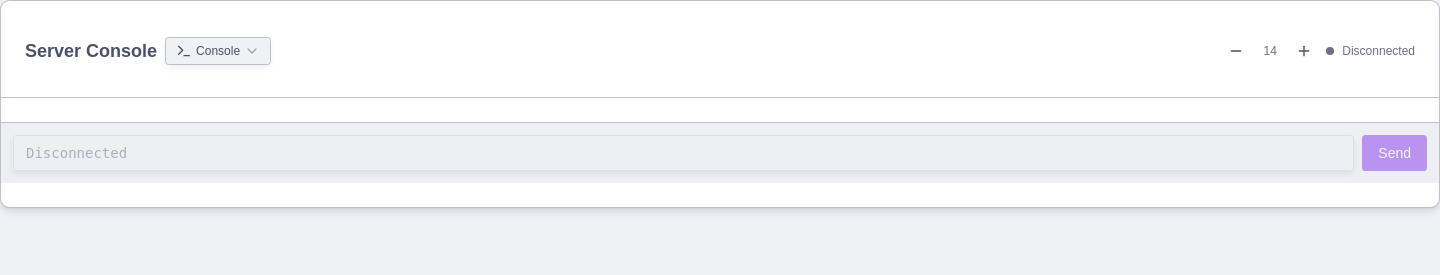
it: ConsolePanel › source selector dropdown › shows log files in dropdown when available
Click the button with test id "source-selector" at (218, 51), box [165,37,271,65]
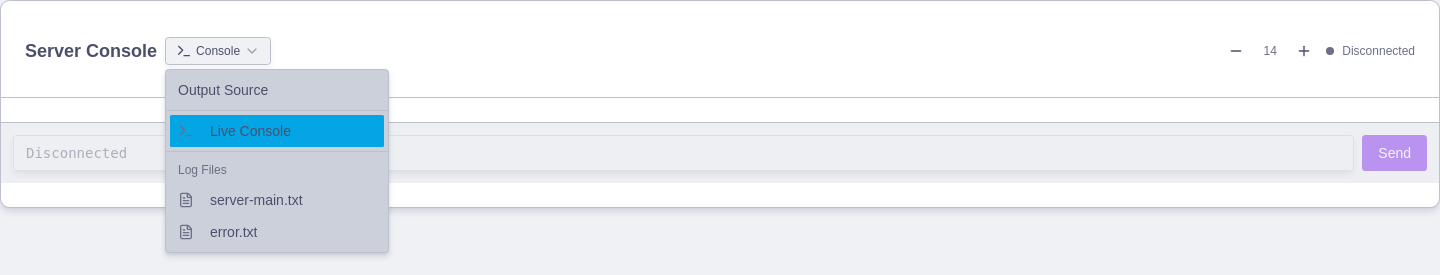
expect the text "server-main.txt" is shown: met, box [210,190,303,210]
expect the text "error.txt" is shown: met, box [210,222,258,242]
expect the text "Log Files" is shown: met, box [178,163,227,177]
